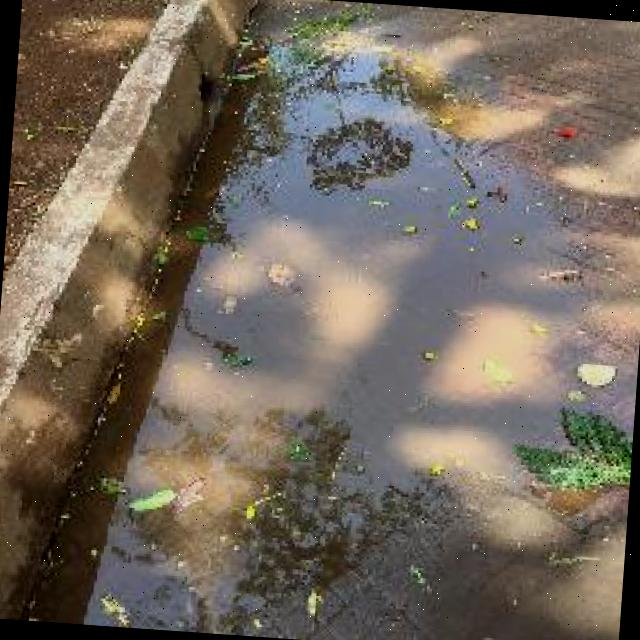stagnation: (20, 56, 598, 626)
